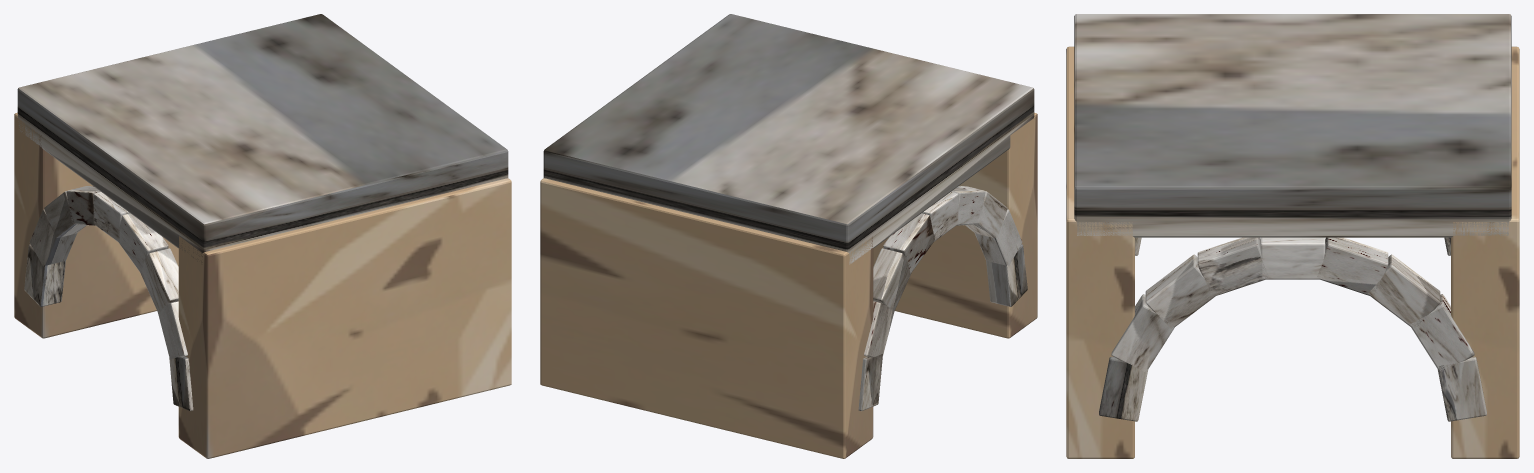
Rendered from bridge_arch_support_LOD1.glb.
3 renders of one model, left to right at view 1: azimuth 30°, elevation 25°; view 2: azimuth 150°, elevation 25°; view 3: azimuth 270°, elevation 25°, orthographic. The views are drawn at different scales.
Parts seen in each view (by area): view 1: LOD1_Saddle, LOD1_Abutment, LOD1_Abutment.001, LOD1_Archivolt.006, LOD1_Archivolt, LOD1_Archivolt.005, LOD1_Archivolt.001, LOD1_Archivolt.004, LOD1_Archivolt.007, LOD1_Archivolt.008, LOD1_Archivolt.002, LOD1_Archivolt.003; view 2: LOD1_Saddle, LOD1_Abutment.001, LOD1_Abutment, LOD1_Archivolt.002, LOD1_Archivolt.008, LOD1_Archivolt.003, LOD1_Archivolt.007, LOD1_Archivolt.001, LOD1_Archivolt, LOD1_Archivolt.004, LOD1_Archivolt.006, LOD1_Archivolt.005; view 3: LOD1_Saddle, LOD1_Abutment, LOD1_Abutment.001, LOD1_Archivolt.014, LOD1_Archivolt.012, LOD1_Archivolt.015, LOD1_Archivolt.011, LOD1_Archivolt.013, LOD1_Archivolt.010, LOD1_Archivolt.016, LOD1_Archivolt.009, LOD1_Archivolt.017.
Boxes of the visible parts, box(x1,y1,x2,y2) form: LOD1_Saddle: box(17, 14, 508, 262); LOD1_Abutment: box(178, 178, 511, 458); LOD1_Abutment.001: box(14, 112, 178, 338); LOD1_Archivolt.006: box(139, 248, 178, 313); LOD1_Archivolt: box(24, 244, 65, 306); LOD1_Archivolt.005: box(118, 213, 168, 273); LOD1_Archivolt.001: box(29, 209, 77, 266); LOD1_Archivolt.004: box(93, 192, 129, 242); LOD1_Archivolt.007: box(157, 301, 187, 359); LOD1_Archivolt.008: box(169, 356, 193, 411); LOD1_Archivolt.002: box(44, 191, 86, 237); LOD1_Archivolt.003: box(66, 186, 100, 225); LOD1_Saddle: box(543, 14, 1034, 264); LOD1_Abutment.001: box(540, 178, 873, 458); LOD1_Abutment: box(873, 112, 1037, 338); LOD1_Archivolt.002: box(873, 248, 911, 311); LOD1_Archivolt.008: box(986, 244, 1027, 306); LOD1_Archivolt.003: box(883, 213, 934, 273); LOD1_Archivolt.007: box(974, 209, 1022, 266); LOD1_Archivolt.001: box(864, 301, 894, 359); LOD1_Archivolt: box(858, 354, 882, 411); LOD1_Archivolt.004: box(922, 192, 958, 241); LOD1_Archivolt.006: box(965, 191, 1007, 237); LOD1_Archivolt.005: box(951, 186, 985, 225); LOD1_Saddle: box(1074, 14, 1511, 237); LOD1_Abutment: box(1066, 46, 1134, 458); LOD1_Abutment.001: box(1451, 46, 1519, 458); LOD1_Archivolt.014: box(1197, 237, 1268, 296); LOD1_Archivolt.012: box(1317, 237, 1388, 295); LOD1_Archivolt.015: box(1145, 254, 1217, 328); LOD1_Archivolt.011: box(1368, 254, 1440, 327); LOD1_Archivolt.013: box(1260, 237, 1325, 279); LOD1_Archivolt.010: box(1410, 294, 1474, 371); LOD1_Archivolt.016: box(1111, 294, 1174, 371); LOD1_Archivolt.009: box(1437, 356, 1486, 421); LOD1_Archivolt.017: box(1099, 356, 1148, 421).
Bounding box in the file's own units: 4.3 × 3.07 × 4.62.
Materials: 2 (2 with a texture image).
